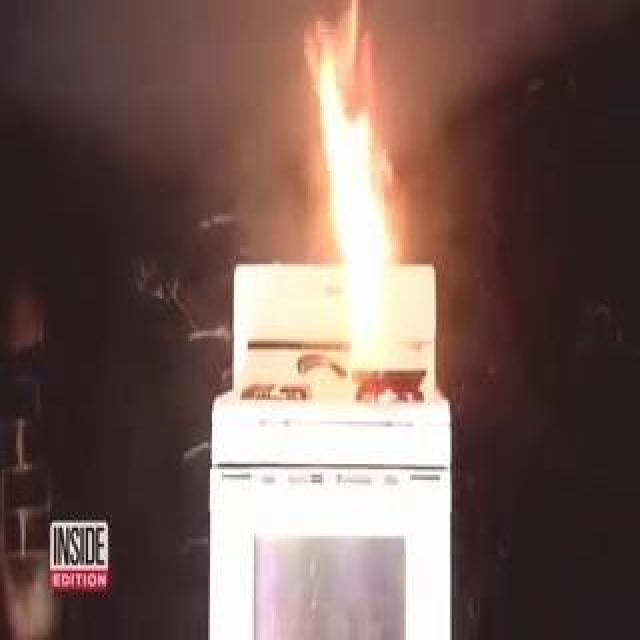Fire: (301, 2, 413, 370)
